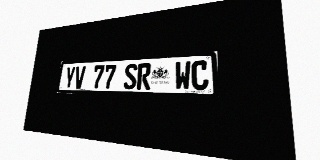7: (103, 64, 116, 89), (92, 65, 105, 89)
C: (191, 60, 209, 90)
R: (137, 63, 151, 90)
S: (123, 63, 138, 89)
V: (73, 66, 86, 89)
W: (175, 61, 191, 90)
Y: (64, 66, 76, 89)
